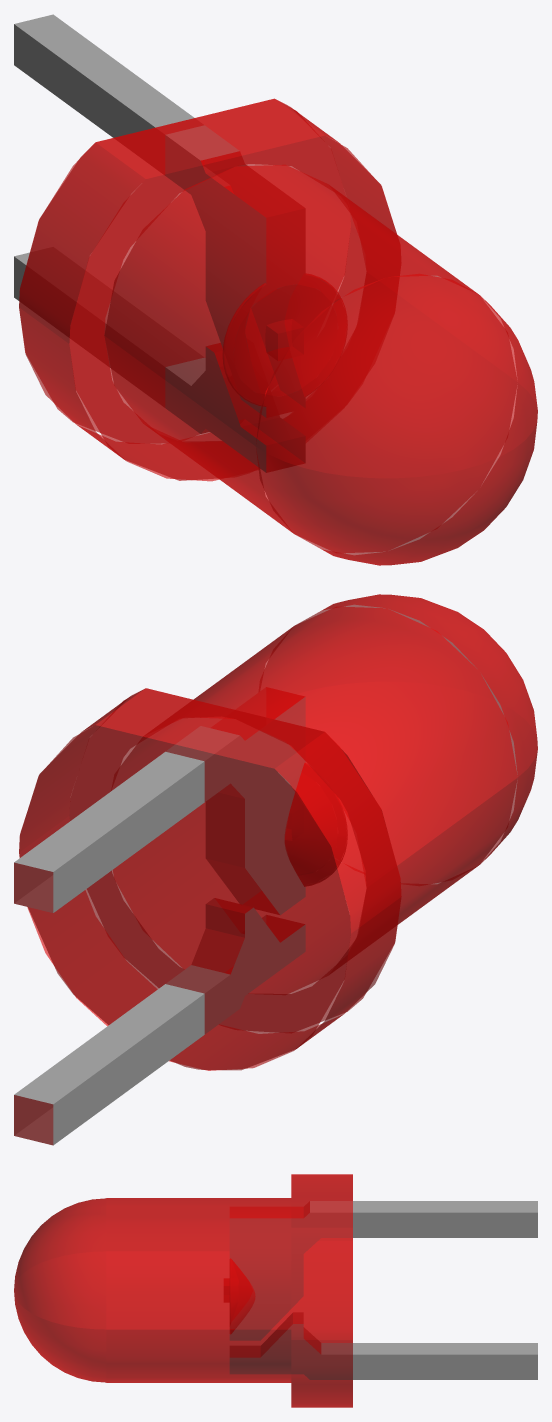
Rendered from led.fbx.
3 views of the same model, one above another, from view 1: azimuth 30°, elevation 25°; view 2: azimuth 150°, elevation 25°; view 3: azimuth 270°, elevation 25° (orthographic). The views are drawn at different scales.
Visible parts, largest first — view 1: ig_TrimmedParametricSurface67; view 2: ig_TrimmedParametricSurface67; view 3: ig_TrimmedParametricSurface67.
Boxes of the visible parts, x1,y1,x2,y2 form: ig_TrimmedParametricSurface67: (14, 14, 537, 565); ig_TrimmedParametricSurface67: (14, 594, 537, 1145); ig_TrimmedParametricSurface67: (14, 1174, 537, 1407).
Size of the model in its own units: 0.38 by 0.35 by 0.85.
